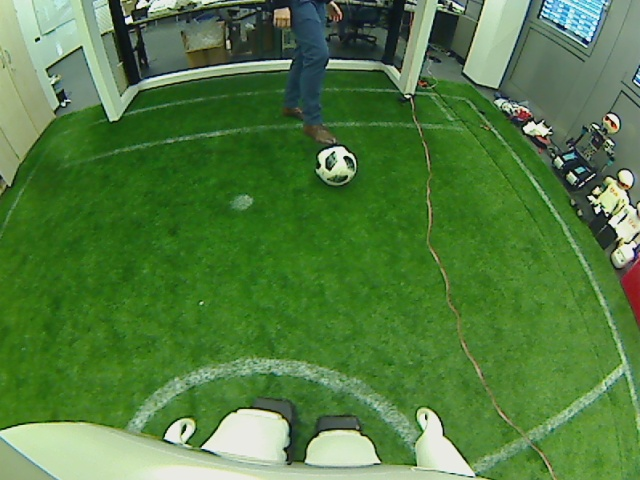ball: (313, 143, 357, 186)
